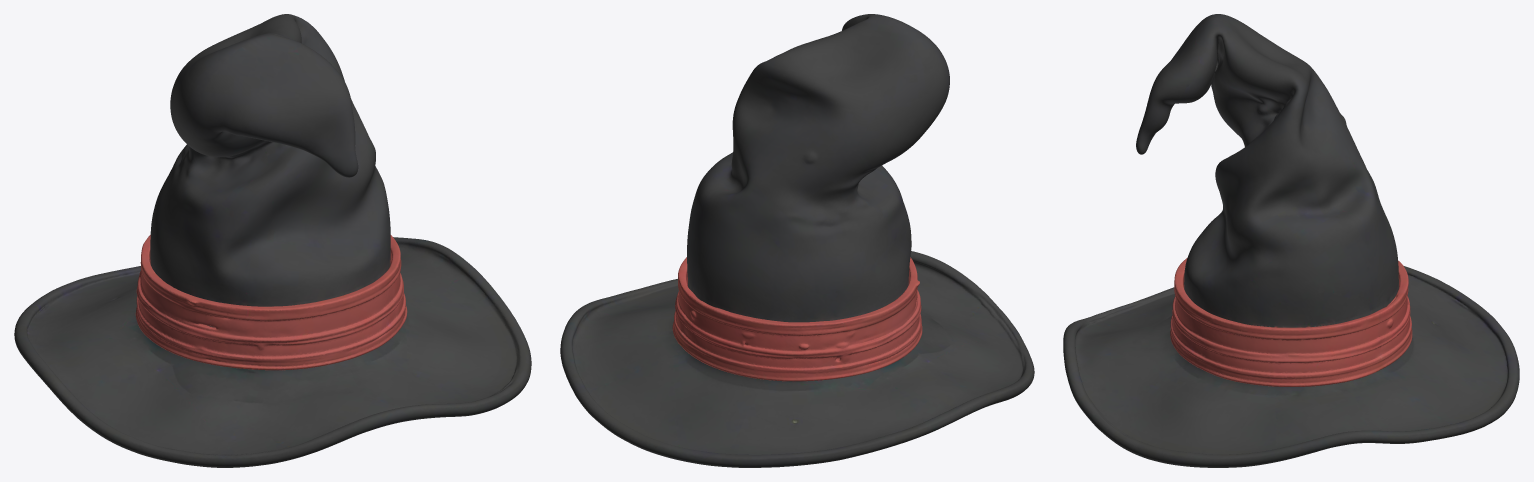
Rendered from detailed_realistic_model_sortinghat_09.glb.
3 views of the same model, side by side, from view 1: azimuth 30°, elevation 25°; view 2: azimuth 150°, elevation 25°; view 3: azimuth 270°, elevation 25° (orthographic). The views are drawn at different scales.
Parts seen in each view (by area): view 1: tripo_node_0cbb091a-cc01-4b24-8129-5b057d1e1b28; view 2: tripo_node_0cbb091a-cc01-4b24-8129-5b057d1e1b28; view 3: tripo_node_0cbb091a-cc01-4b24-8129-5b057d1e1b28.
Boxes of the visible parts, x1,y1,x2,y2 form: tripo_node_0cbb091a-cc01-4b24-8129-5b057d1e1b28: [14, 14, 531, 467]; tripo_node_0cbb091a-cc01-4b24-8129-5b057d1e1b28: [560, 14, 1034, 467]; tripo_node_0cbb091a-cc01-4b24-8129-5b057d1e1b28: [1063, 14, 1519, 467].
Bounding box in the file's own units: 1 × 0.8185 × 0.9995.
Materials: 1 (1 with a texture image).
